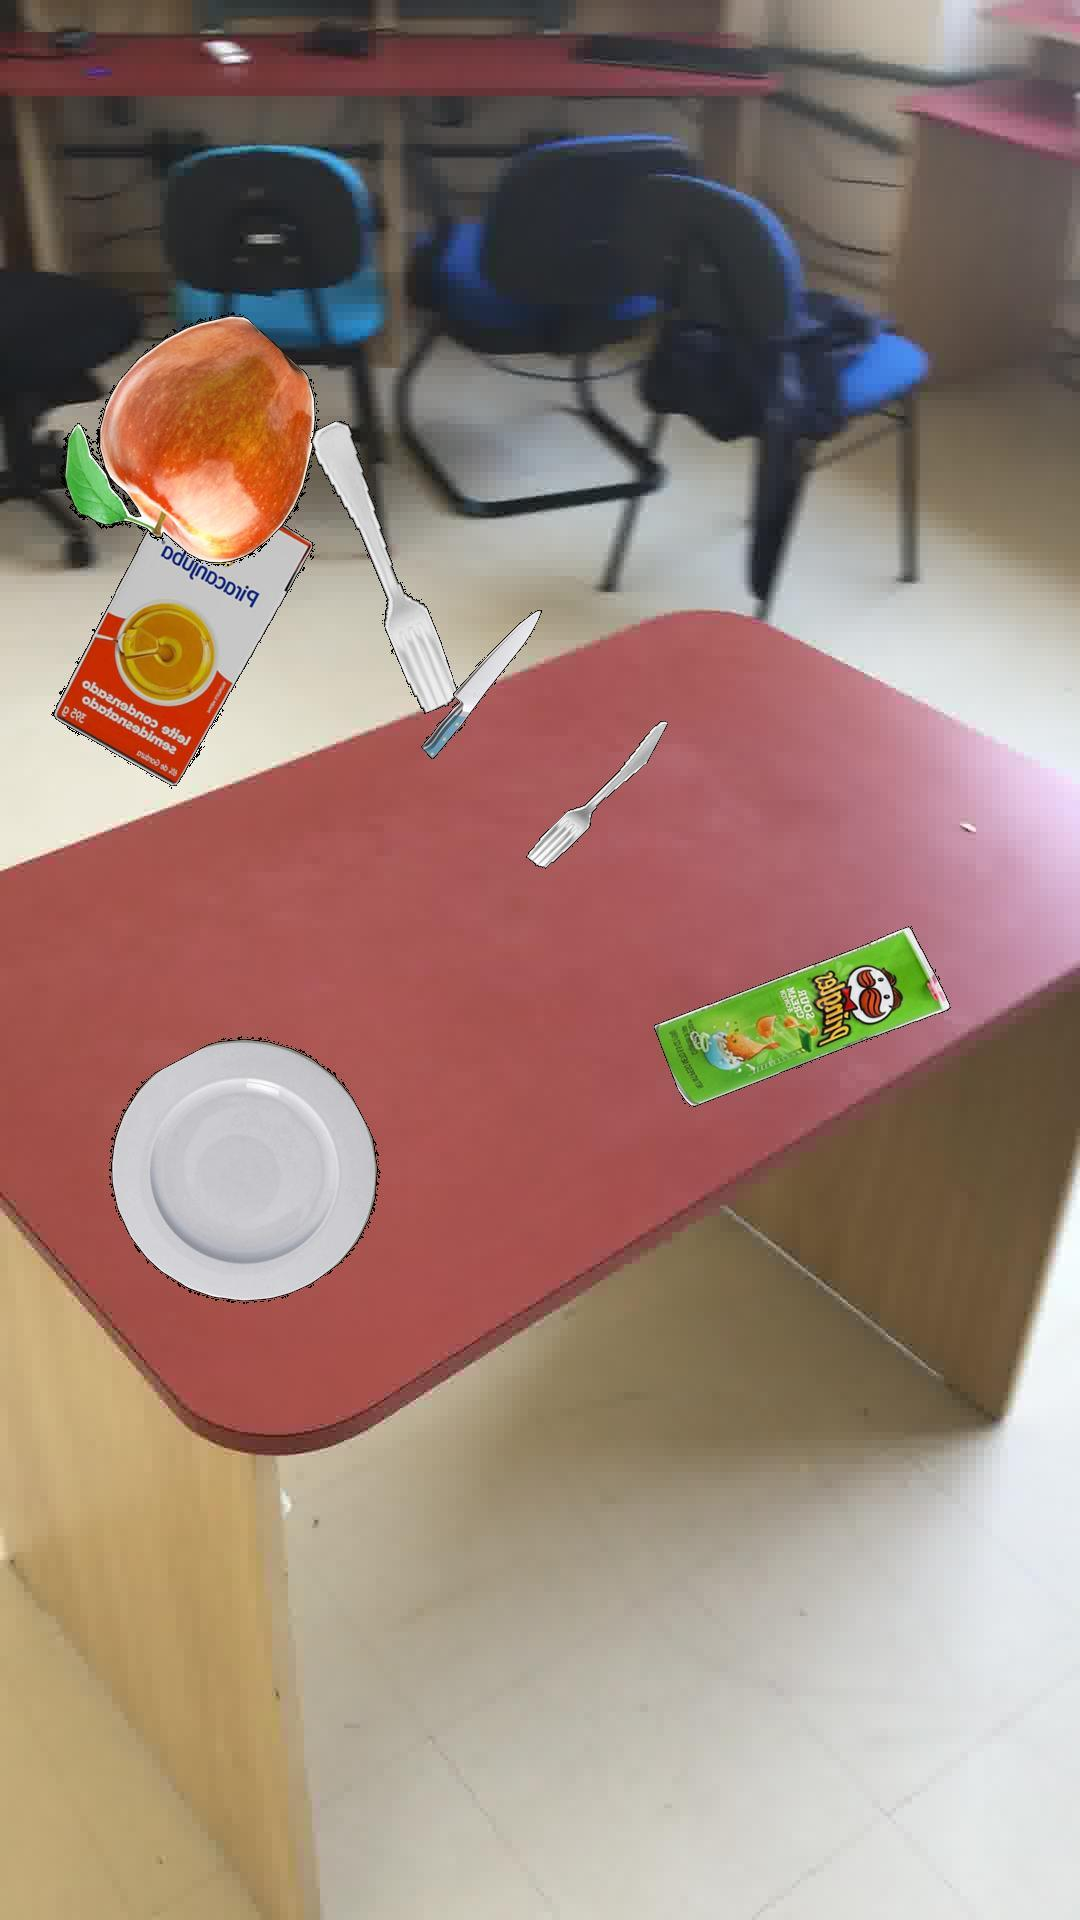apple: (58, 314, 314, 562)
fork: (310, 419, 455, 712), (525, 720, 666, 868)
knife: (419, 608, 541, 757)
plate: (108, 1034, 380, 1300)
pringles: (653, 924, 949, 1105)
